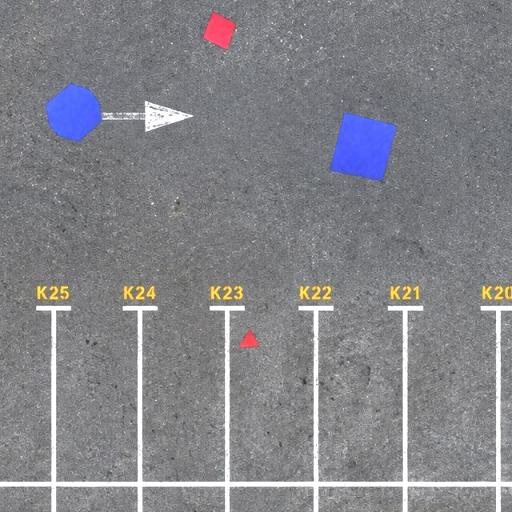BLUE_SQUARE: (329, 112, 397, 182)
RED_SQUARE: (202, 12, 238, 50)
